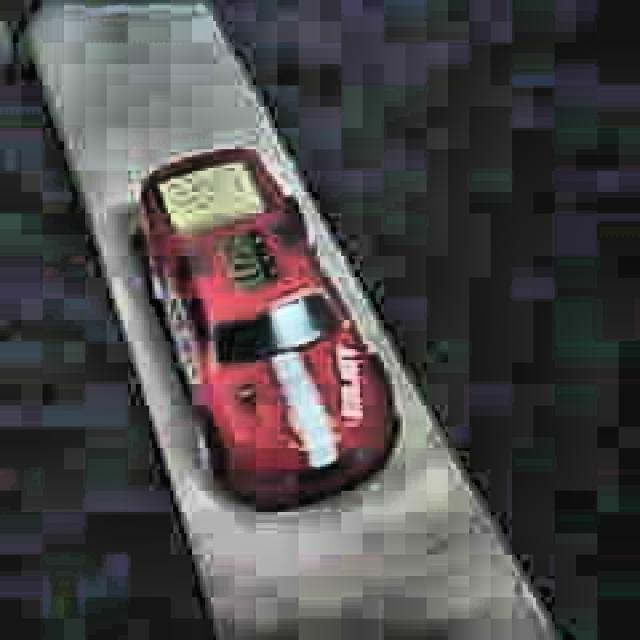car: (131, 147, 401, 515)
